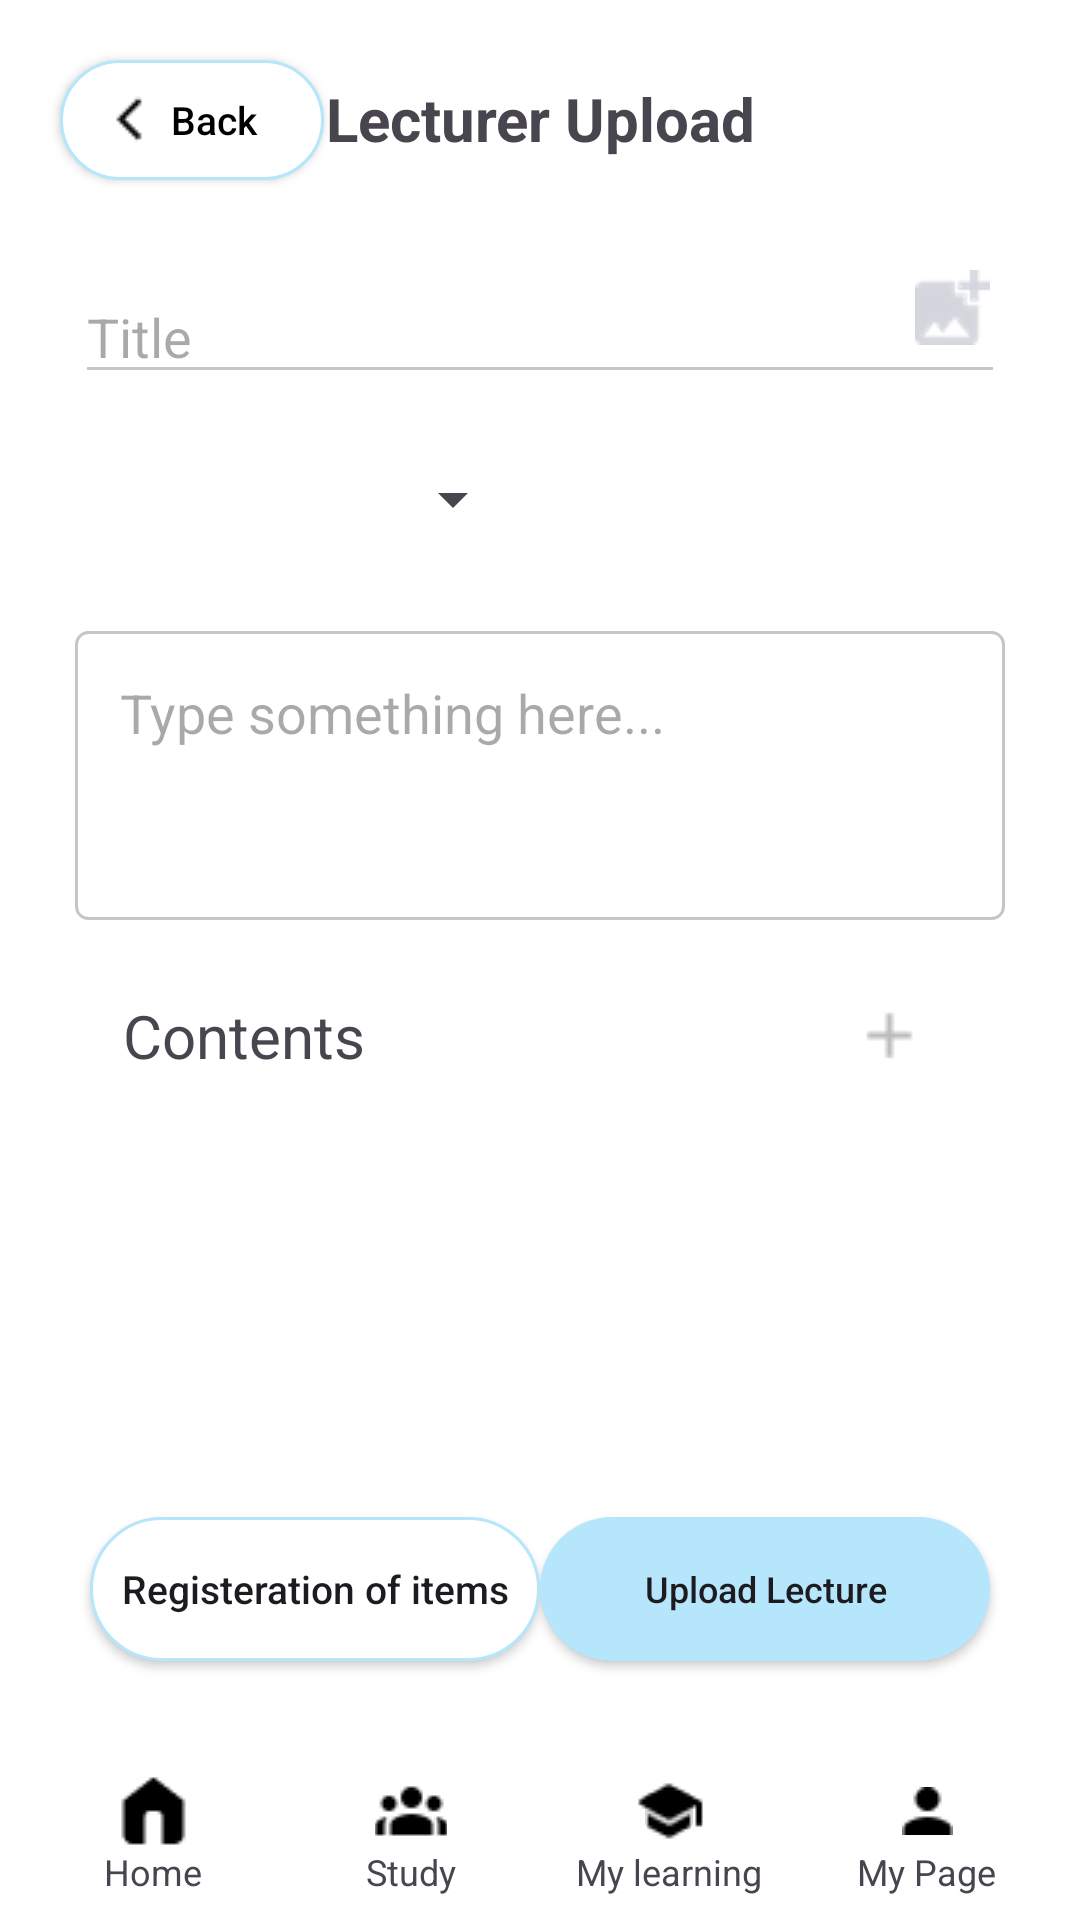

Locate icon controls on the screen. Image size 1080px x 1920px, boxes as (x1, y1, x2, y2).
addphoto: (915, 270, 990, 345)
plus: (867, 1013, 912, 1058)
